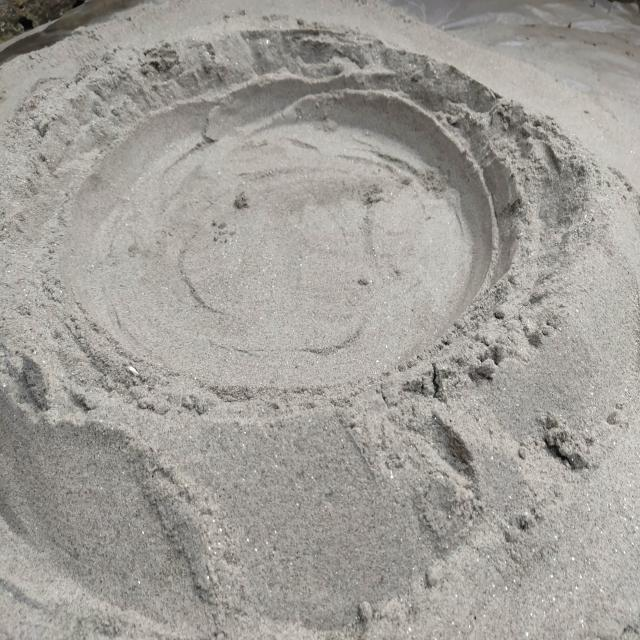C40: (62, 78, 495, 390)
